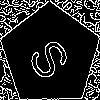S: (25, 30, 80, 84)
